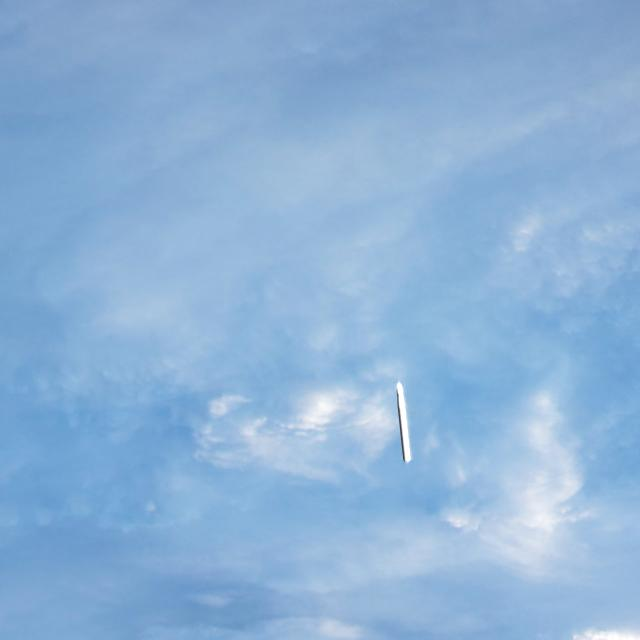rocket: (388, 372, 423, 466)
